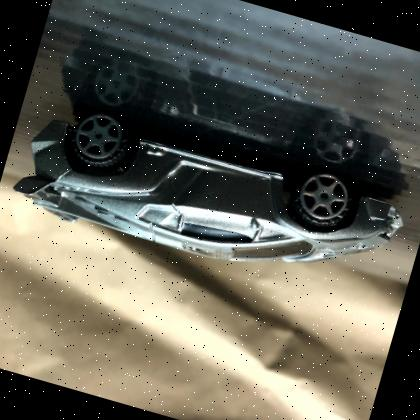Car: (13, 110, 404, 262)
